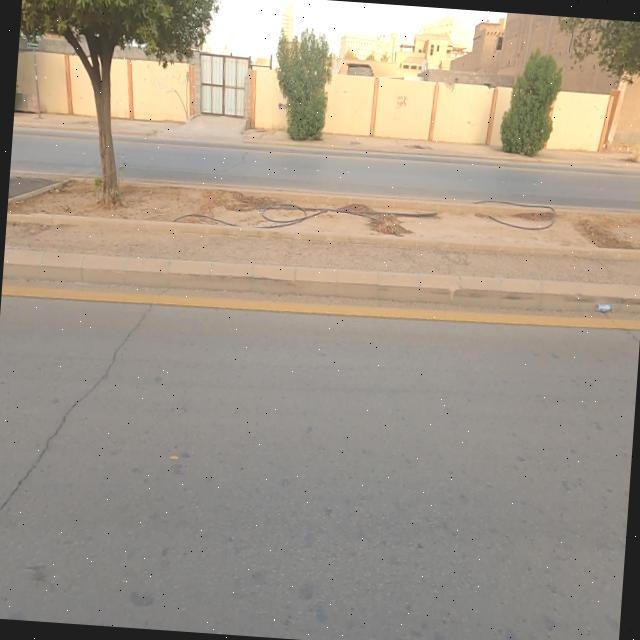Graffiti: (150, 67, 187, 94), (396, 95, 409, 112)
